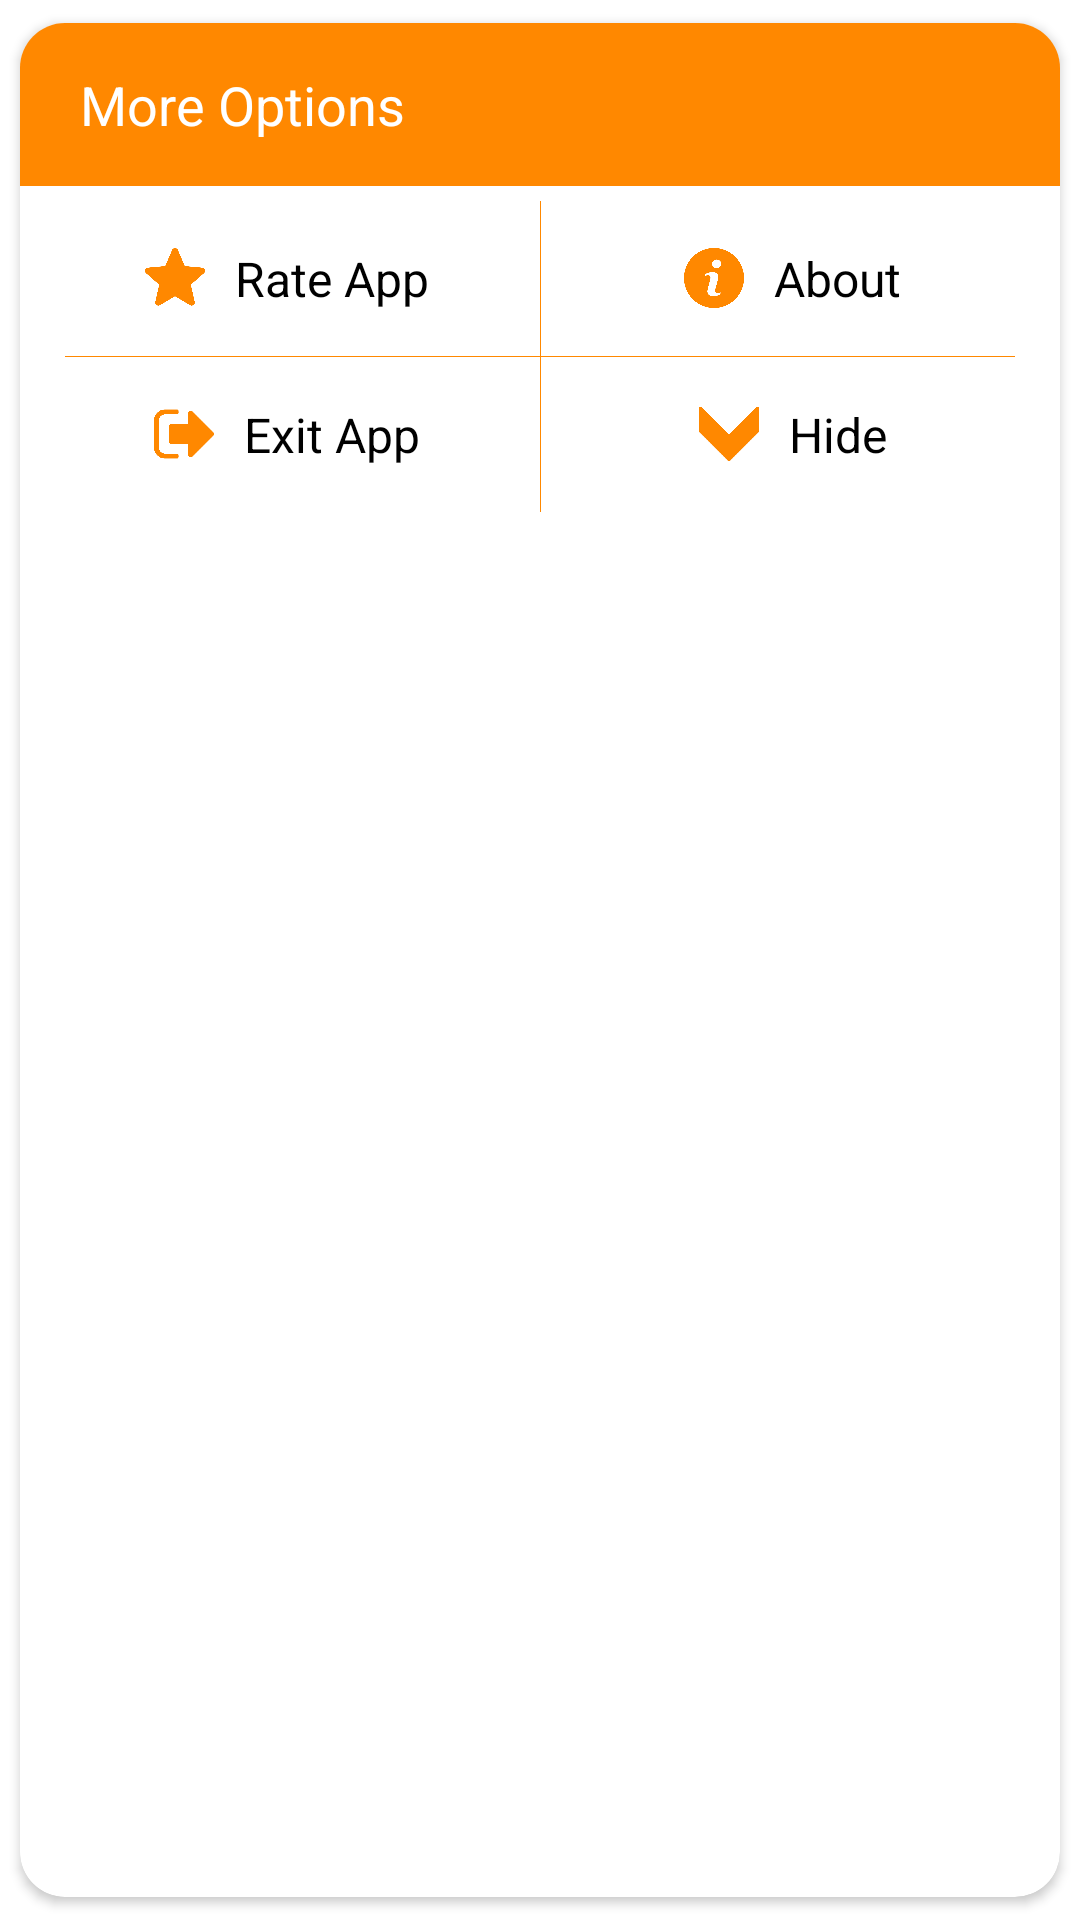

Screen size 1080 × 1920. Icon name, then its center in pixels as (x=x, y=y):
down arrow: (x=729, y=434)
